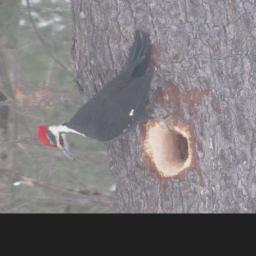Woodpecker: (34, 29, 181, 160)
